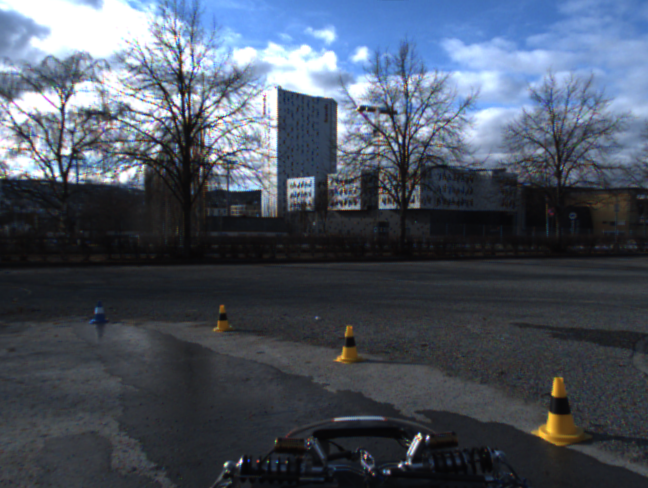cone-small-blue: (89, 301, 110, 324)
cone-small-yellow: (530, 376, 592, 446), (333, 325, 367, 364), (212, 304, 233, 332)
